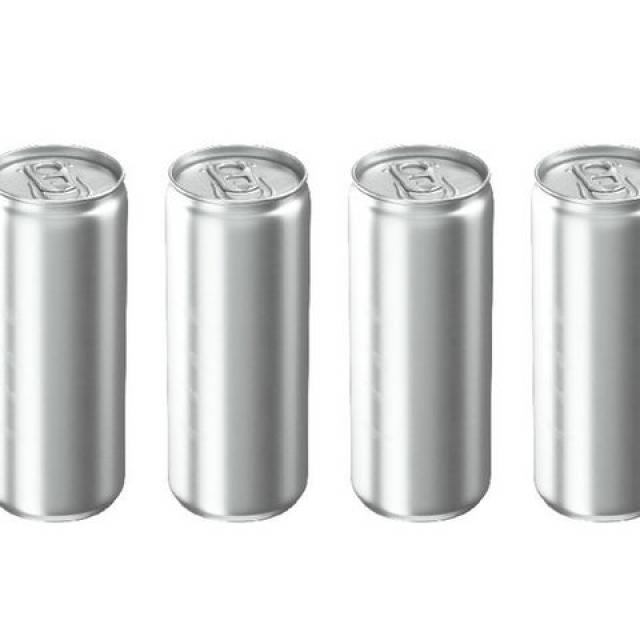non-organic waste: (152, 112, 328, 534), (339, 127, 510, 543), (1, 121, 135, 536), (522, 122, 640, 542)
